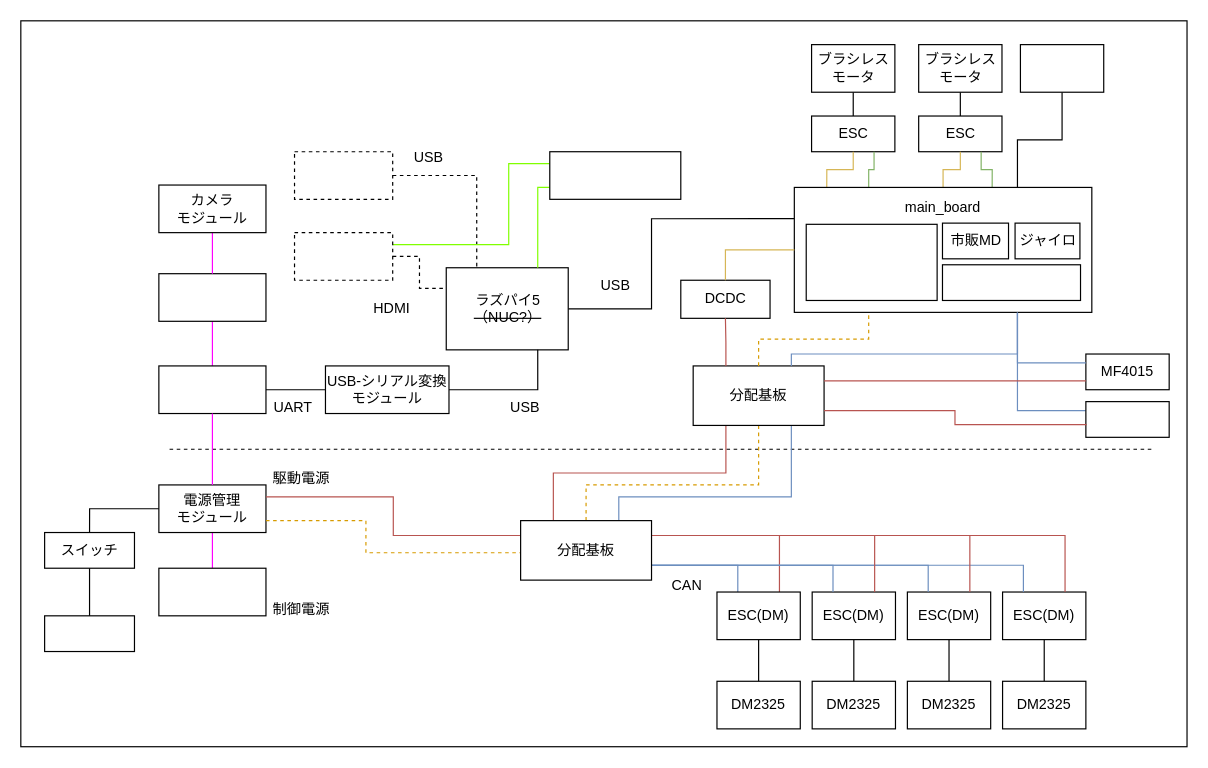
Some shapes in this 1208 by 768 pixel diagram are drawn without their labels. The centre of each missing label's shape, as x and y in pixels:
"CAN トランシーバー" goes at point (1011, 282).
"f303k8" goes at point (871, 261).
"MHF5005" goes at point (1127, 418).
"デバック用 モニター" goes at point (343, 255).
"バッテリー" goes at point (88, 633).
"マズル モジュール" goes at point (212, 297).
"ラズパイ用 モバイルバッテリー" goes at point (615, 175).
"各ゲーム モジュール" goes at point (212, 591).
"小型 モータ" goes at point (1061, 67).
"情報取得 モジュール" goes at point (212, 389).
"画像認識 カメラ" goes at point (343, 175).
